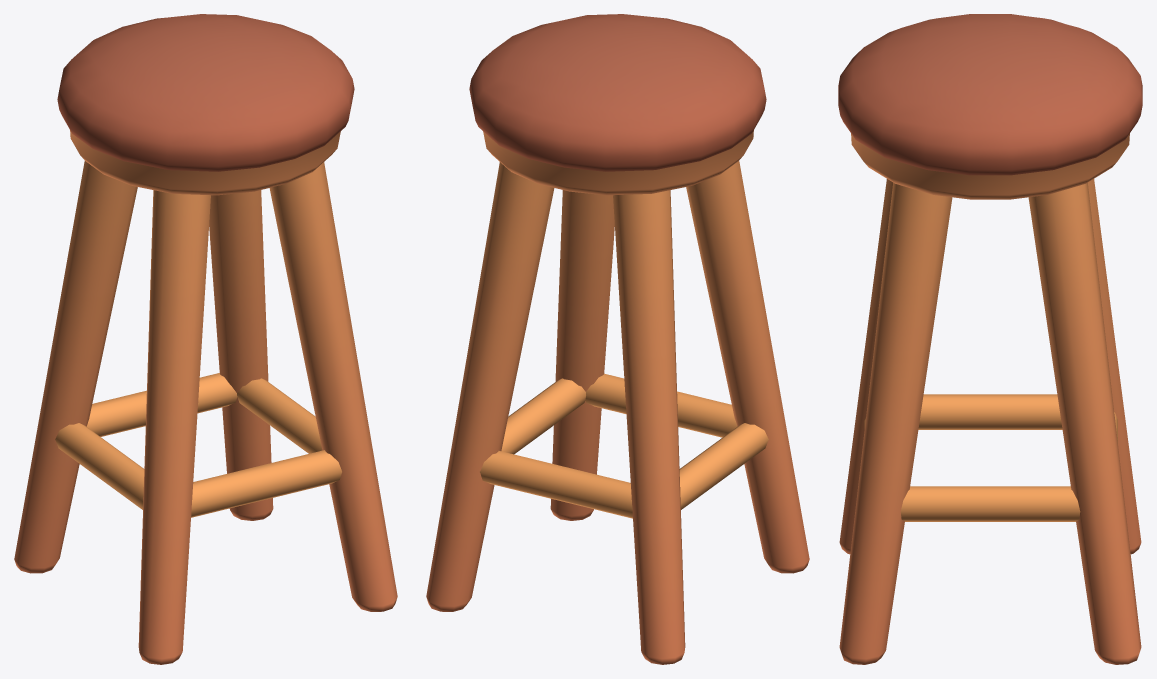
The model's file is Chair_04.glb.
3 views of the same model, side by side, from view 1: azimuth 30°, elevation 25°; view 2: azimuth 150°, elevation 25°; view 3: azimuth 270°, elevation 25° (orthographic). The views are drawn at different scales.
Visible parts, largest first — view 1: Chair_04; view 2: Chair_04; view 3: Chair_04.
Boxes of the visible parts, x1,y1,x2,y2 form: Chair_04: (14, 14, 397, 664); Chair_04: (426, 14, 809, 664); Chair_04: (838, 14, 1142, 664).
Bounding box in the file's own units: 0.414 × 0.8374 × 0.414.
1 material, 1 textured.
